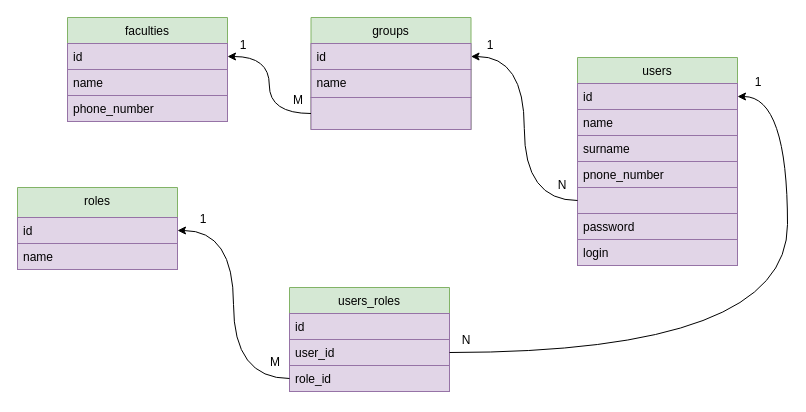
This 806x412 diagram has some shape labels left out. The centre of each missing label's shape, as x and y in pixels:
faculty_id: the point at 390,113
group_id: the point at 657,200
